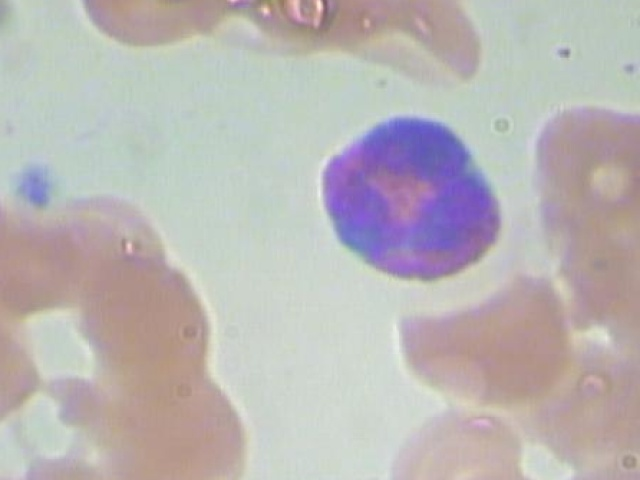Platelets: (9, 153, 75, 208)
RBC: (376, 270, 587, 411), (77, 241, 221, 389), (112, 359, 256, 480), (522, 90, 640, 230), (383, 385, 527, 480), (344, 0, 501, 86), (65, 0, 233, 58), (0, 303, 49, 439), (603, 224, 640, 372), (3, 444, 131, 480), (0, 426, 15, 480)
WBC: (290, 99, 514, 301)
